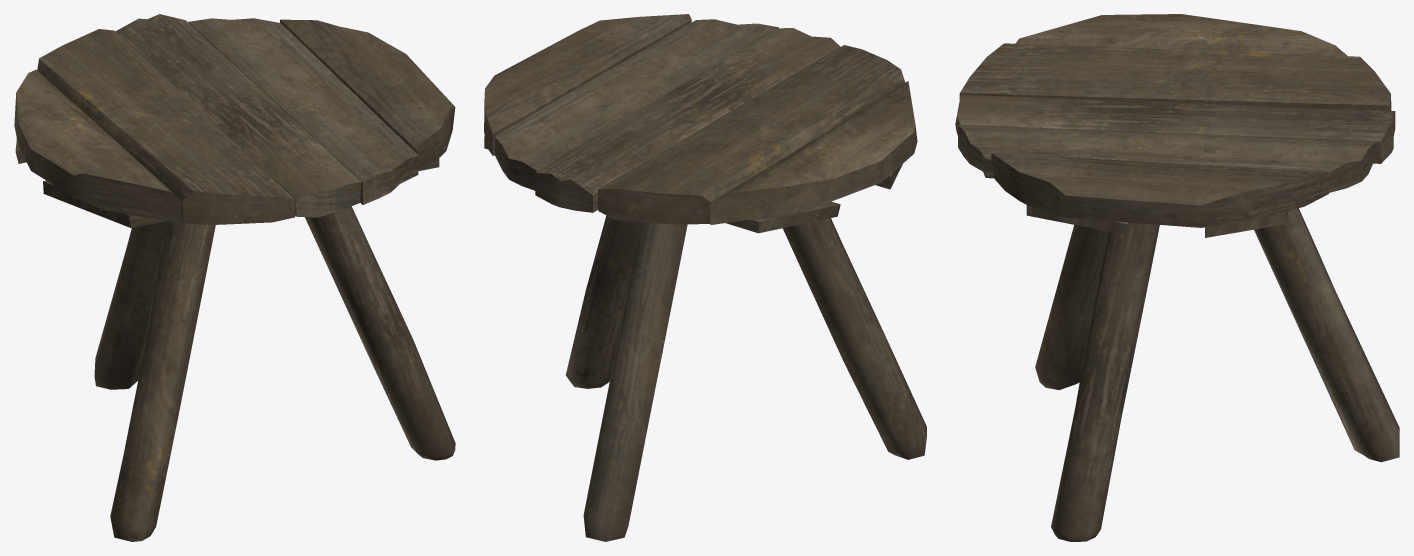
The model's file is SM_Stool_a_001.fbx.
3 views of the same model, side by side, from view 1: azimuth 30°, elevation 25°; view 2: azimuth 150°, elevation 25°; view 3: azimuth 270°, elevation 25° (orthographic).
Visible parts, largest first — view 1: SM_Stool_a_001; view 2: SM_Stool_a_001; view 3: SM_Stool_a_001.
Part boxes in pixels (x1,y1,x2,y2): SM_Stool_a_001: [14, 14, 455, 541]; SM_Stool_a_001: [484, 14, 926, 541]; SM_Stool_a_001: [955, 14, 1399, 541].
Size of the model in its own units: 45.91 by 40.72 by 46.11.
